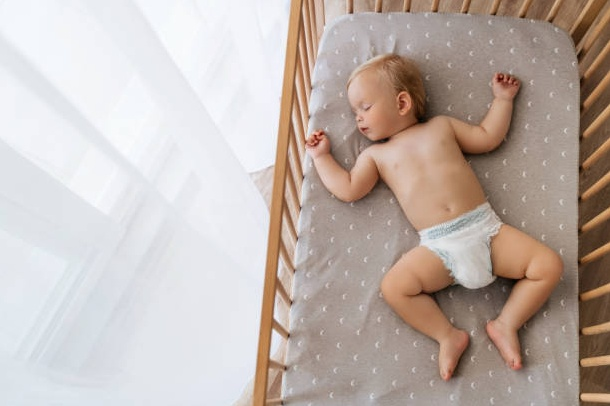baby: (306, 54, 562, 379)
crib: (342, 0, 609, 402)
